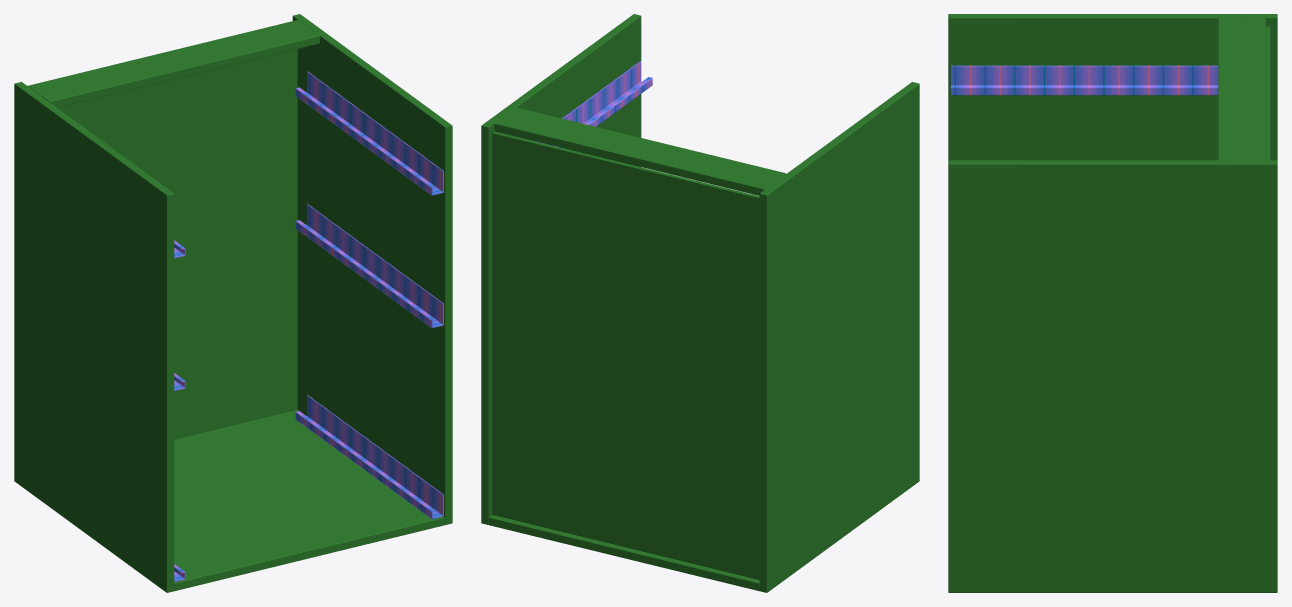
File: SM_Kitchen_05_Base.fbx
The picture shows the model from 3 angles, left to right: view 1: azimuth 30°, elevation 25°; view 2: azimuth 150°, elevation 25°; view 3: azimuth 270°, elevation 25°; orthographic projection. The views are drawn at different scales.
Parts seen in each view (by area): view 1: SM_Kitchen_05_Base; view 2: SM_Kitchen_05_Base; view 3: SM_Kitchen_05_Base.
Boxes of the visible parts, left/top/right/bottom form: SM_Kitchen_05_Base: left=14, top=14, right=452, bottom=592; SM_Kitchen_05_Base: left=481, top=14, right=919, bottom=592; SM_Kitchen_05_Base: left=948, top=14, right=1277, bottom=592.
Size of the model in its own units: 59.99 by 79.8 by 55.49.
Materials: 2 (1 with a texture image).
